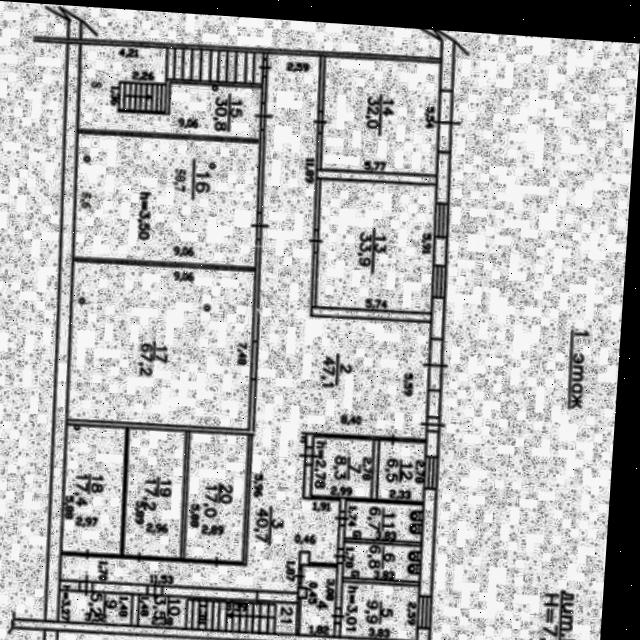room: (57, 41, 449, 603), (64, 262, 254, 428), (71, 132, 261, 267), (77, 44, 263, 139), (313, 180, 435, 313), (320, 57, 441, 175), (183, 432, 246, 561), (60, 425, 123, 553), (122, 428, 183, 558), (134, 596, 294, 634), (338, 583, 416, 640), (309, 438, 372, 497), (342, 501, 420, 542), (340, 542, 419, 581), (375, 441, 424, 502), (376, 441, 423, 502), (297, 566, 333, 636), (57, 590, 129, 624)
